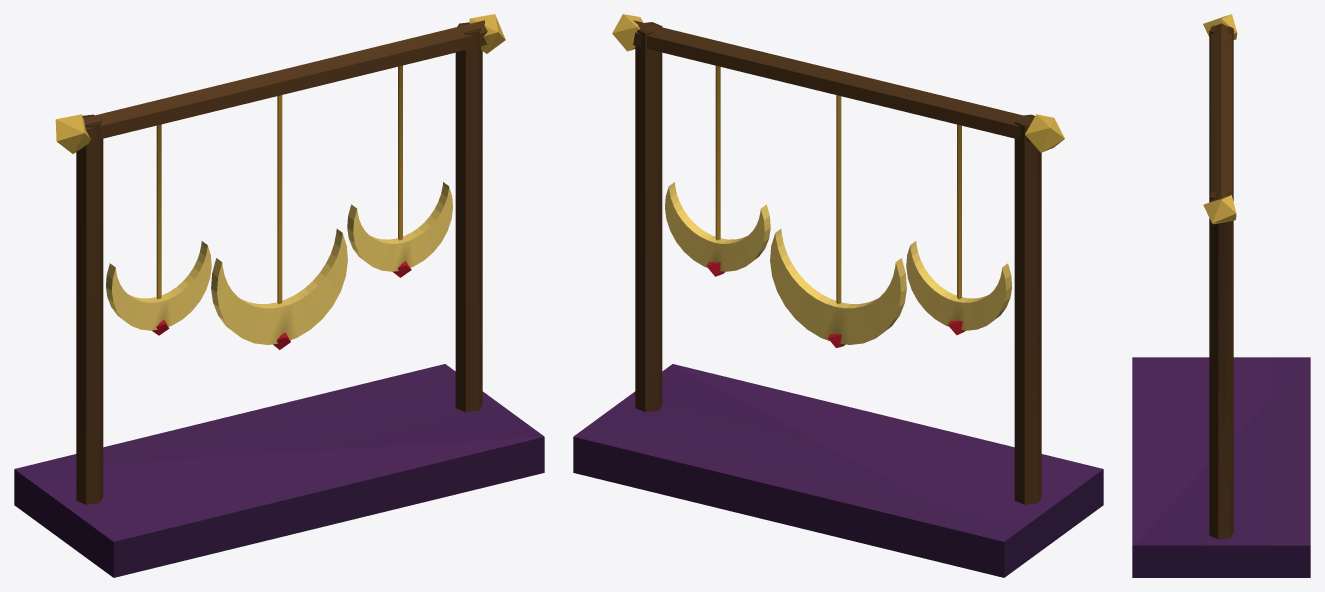
The picture shows the model from 3 angles, left to right: view 1: azimuth 30°, elevation 25°; view 2: azimuth 150°, elevation 25°; view 3: azimuth 270°, elevation 25°; orthographic projection. The views are drawn at different scales.
Visible parts, largest first — view 1: base; view 2: base; view 3: base.
Boxes of the visible parts, x1,y1,x2,y2 form: base: (14,14,544,577); base: (573,14,1103,577); base: (1132,14,1310,577).
Bounding box in the file's own units: 0.5173 × 0.4689 × 0.2.
